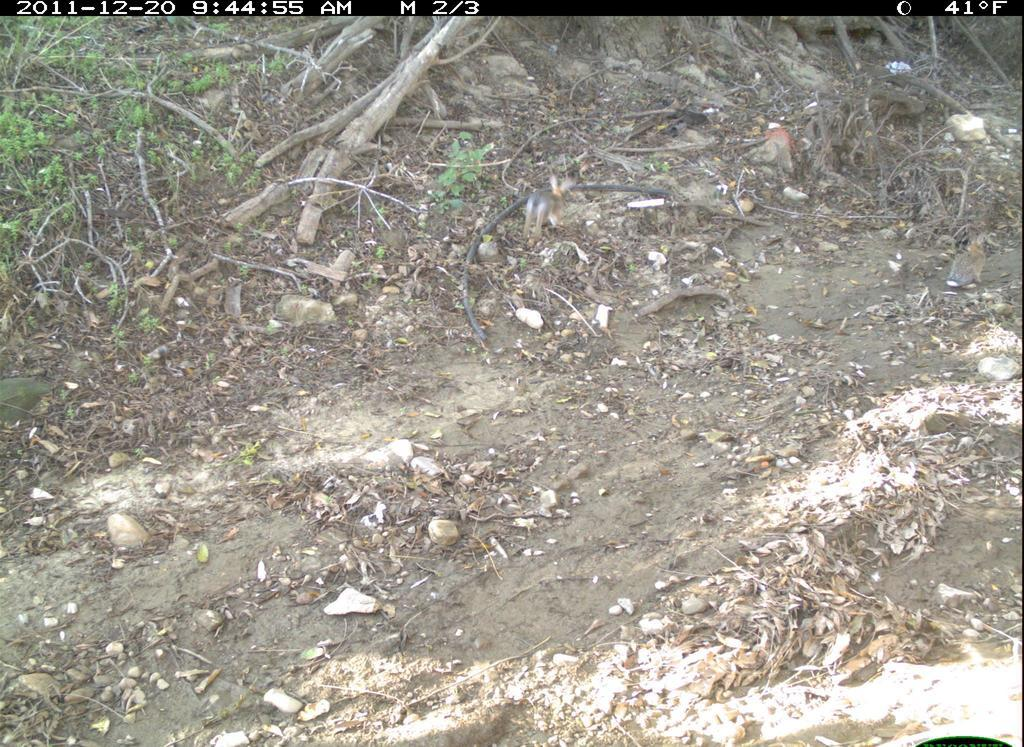rabbit: (519, 171, 577, 250)
